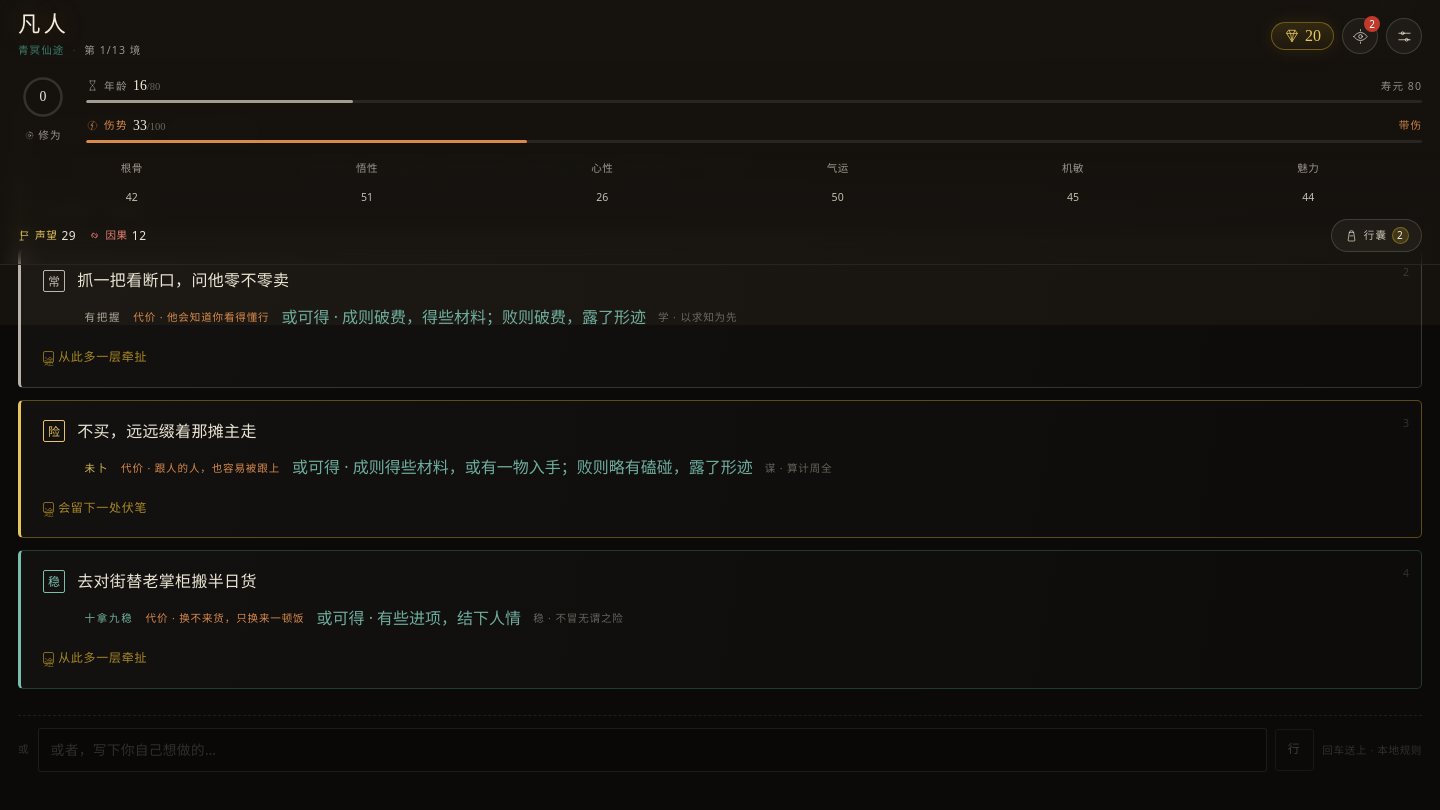
Test: 打字 → 回车 → 提交 › 回车把玩家写的那句话原样送进 provider，结果回显在同一页上
(page scrolled)
Type "抢过他手里的书" into the field named "自由输入" at (652, 750), box [38,728,1267,772]
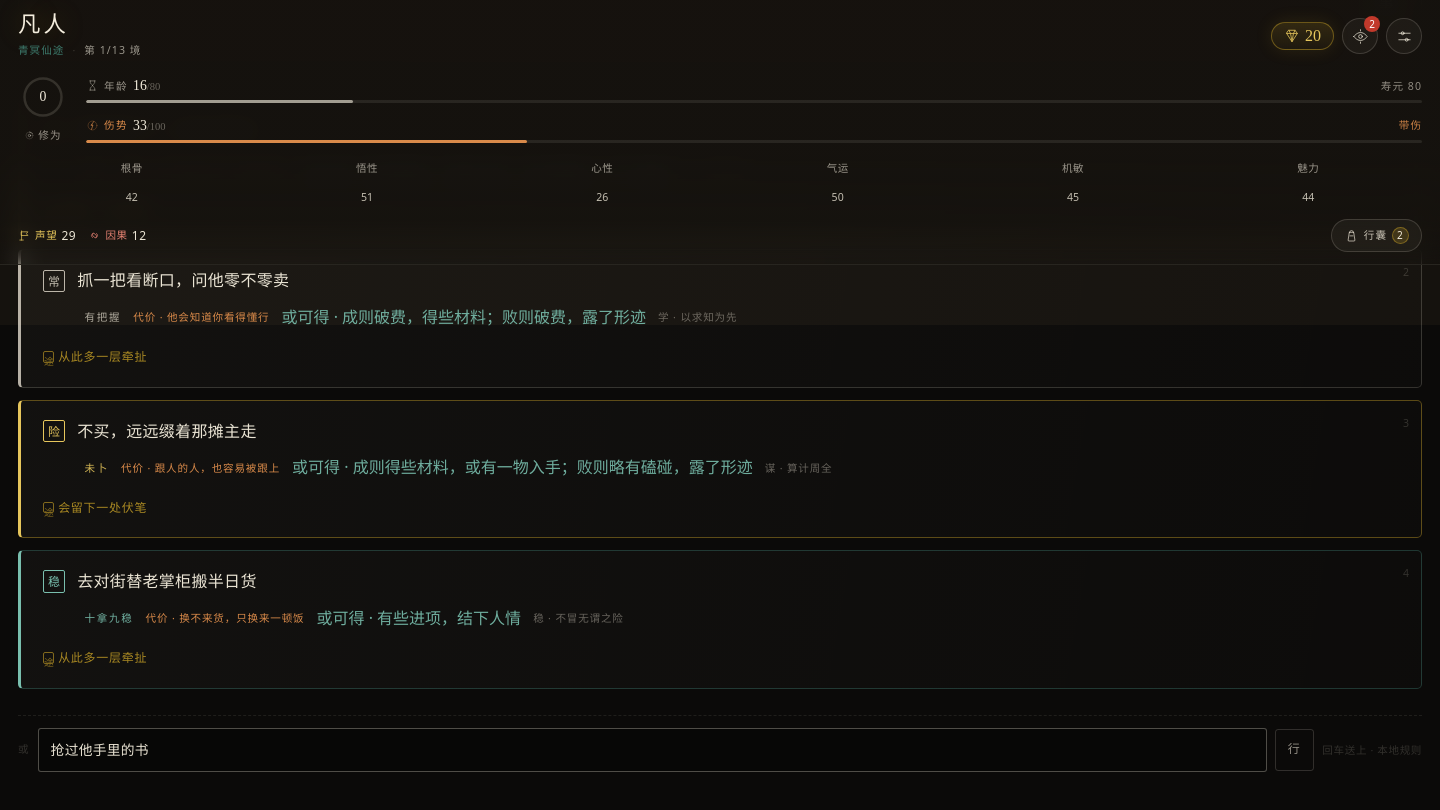
Press Enter
(page scrolled)
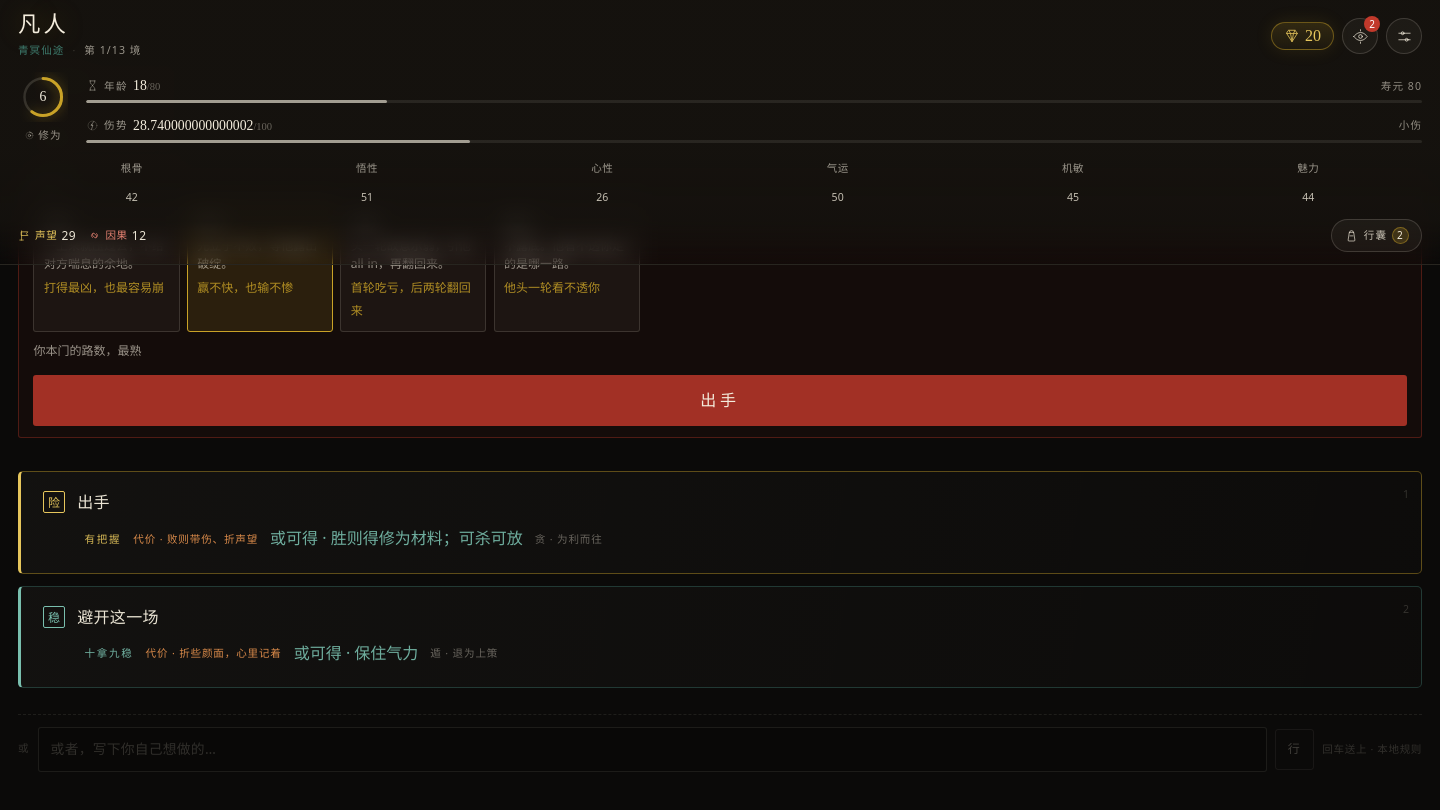
Result: the field named "自由输入" is empty at [38,727,1267,772]
Result: the submit button is disabled at [1275,729,1314,770]
